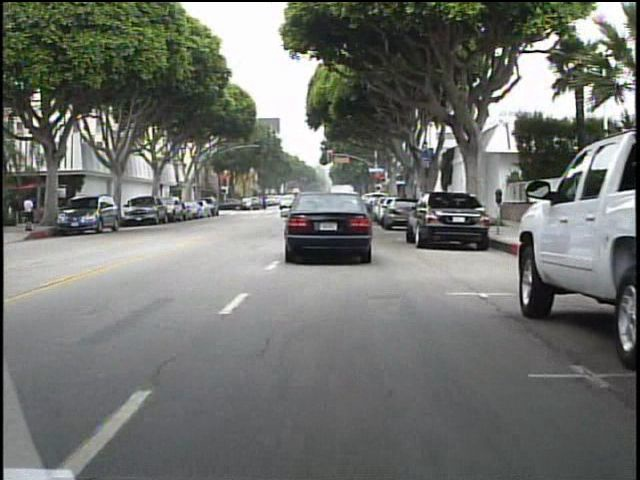person: (23, 192, 42, 235), (260, 192, 273, 216)
